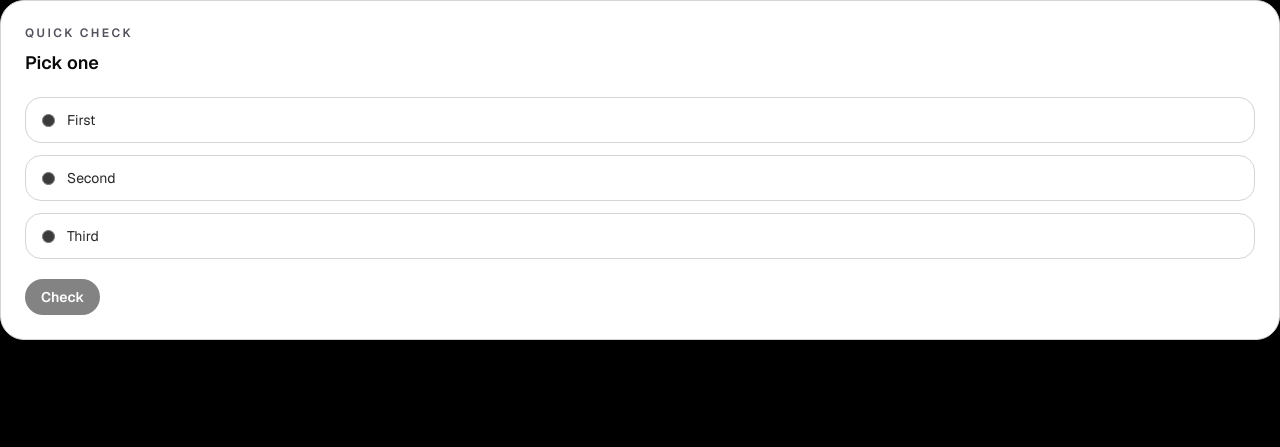
Scenario: InlineQuiz › normalizes string quiz options instead of throwing
The image size is (1280, 447).
Step 1. Click the radio button labelled "Second" → (48, 178), box 42,172 -> 55,185
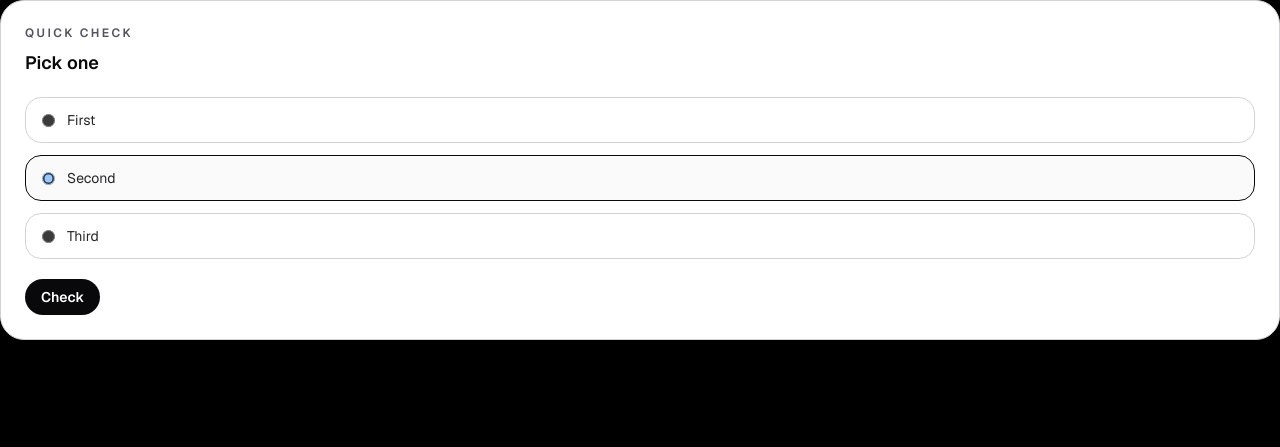
Step 2. Click the button "Check" → (63, 297), box 25,279 -> 100,315
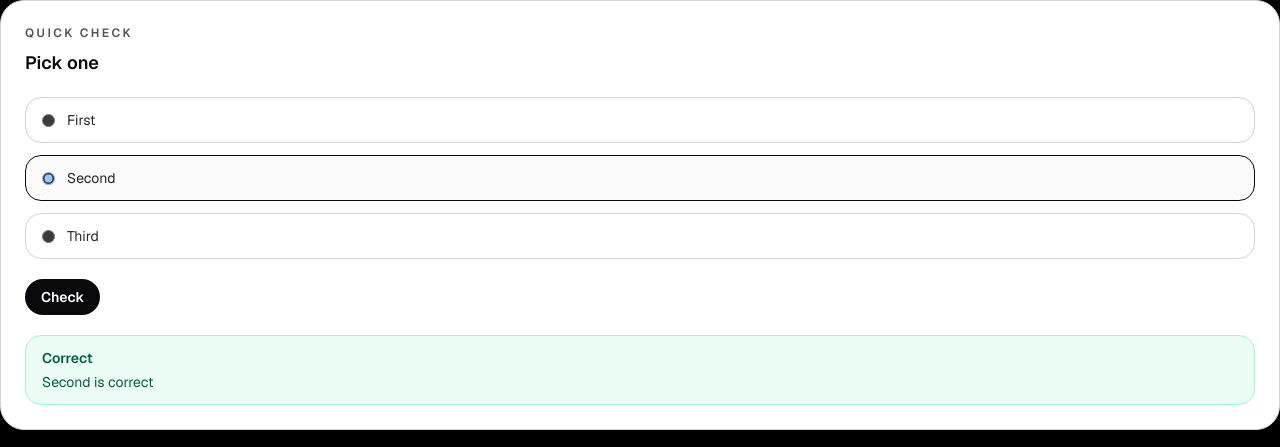
Result: the element with test id "quiz-feedback" shows "Correct" at 42,349 -> 93,367
